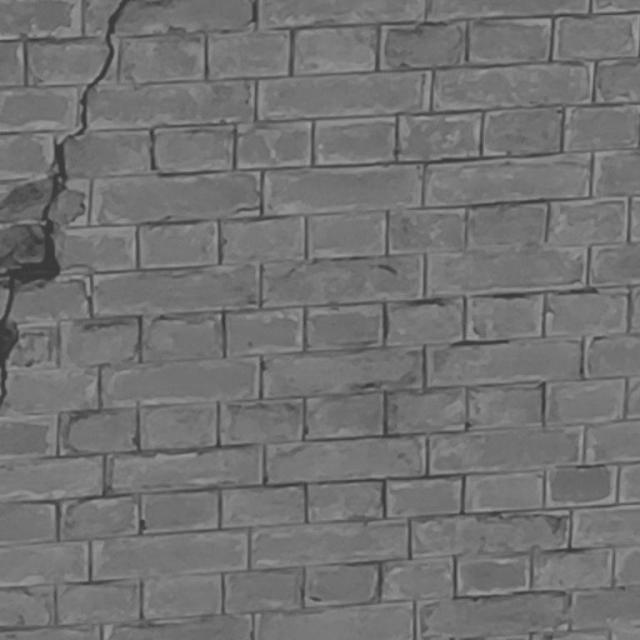crack: (1, 1, 126, 404)
